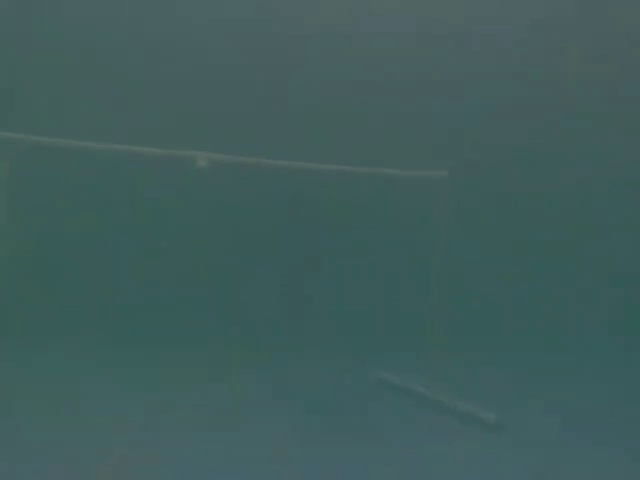gate: (0, 123, 512, 437)
